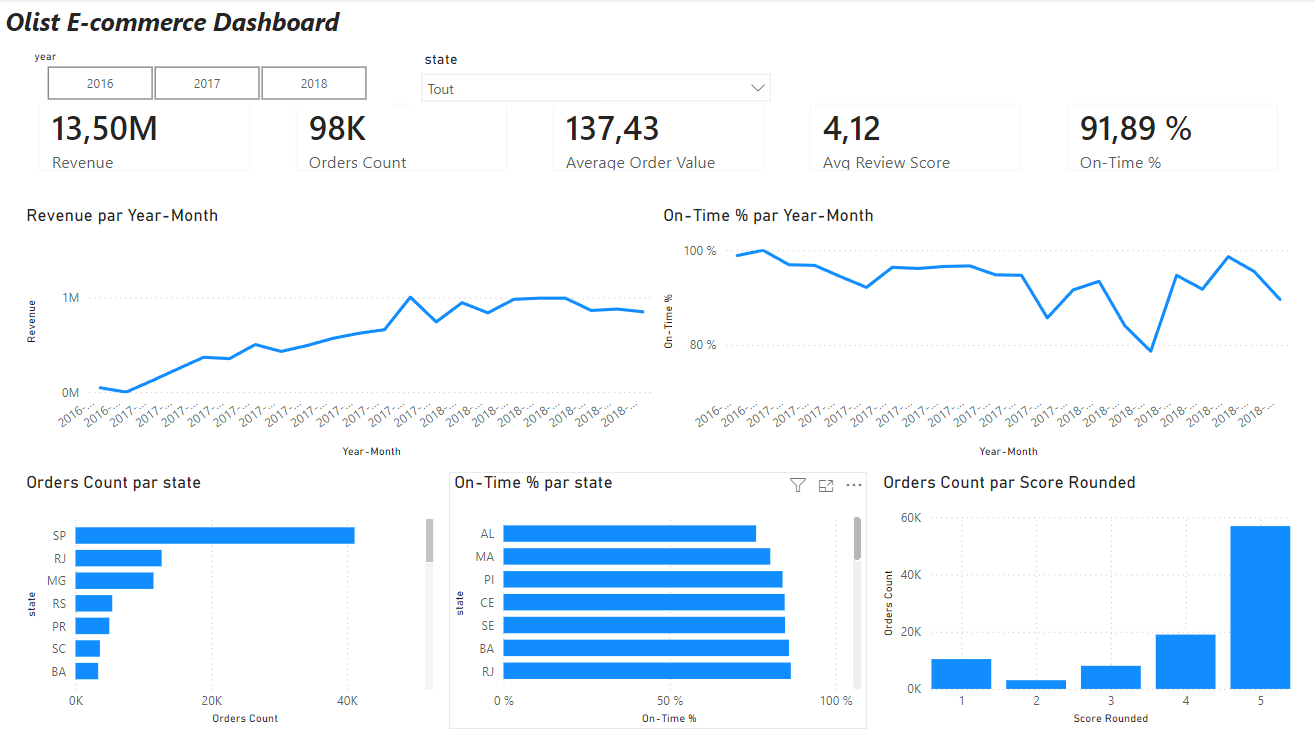

The dashboard page shown, as its layout file describes it:
{"tool":"powerbi","page":{"name":"Page 1","canvas":[1280,720],"ordinal":0},"visuals":[{"type":"cardVisual","fields":{"Data":["public fact_orders.Revenue"]},"box":[20,85,240,100],"z":0},{"type":"cardVisual","fields":{"Data":["public fact_orders.Orders"]},"box":[270,85,240,100],"z":1},{"type":"cardVisual","fields":{"Data":["public fact_orders.On-Time %"]},"box":[1020,85,240,100],"z":2},{"type":"cardVisual","fields":{"Data":["public fact_orders.Avg Review Score"]},"box":[770,85,240,100],"z":3},{"type":"cardVisual","fields":{"Data":["public fact_orders.Average Order Value"]},"box":[520,85,240,100],"z":4},{"type":"clusteredBarChart","fields":{"Category":["public dim_customers.state"],"Y":["public fact_orders.On-Time %"]},"box":[437,460,406,250],"z":6},{"type":"slicer","fields":{"Values":["public dim_date.year"]},"box":[20,45,360,60],"z":7},{"type":"slicer","fields":{"Values":["public dim_customers.state"]},"box":[400,45,360,60],"z":8},{"type":"lineChart","fields":{"Category":["public dim_date.Year-Month"],"Y":["public fact_orders.Revenue"]},"box":[20,200,620,250],"z":9},{"type":"lineChart","fields":{"Category":["public dim_date.Year-Month"],"Y":["public fact_orders.On-Time %"]},"box":[640,200,620,250],"z":10},{"type":"clusteredBarChart","fields":{"Category":["public dim_customers.state"],"Y":["public fact_orders.Orders Count"]},"box":[20,460,406,250],"z":11},{"type":"clusteredColumnChart","fields":{"Category":["public fact_orders.Score Rounded"],"Y":["public fact_orders.Orders Count"]},"box":[854,460,406,250],"z":12},{"type":"textbox","box":[20.2,0,669.7,36.9],"z":13}]}

Visuals, with their boxes in screenshot pixels (x1, y1, x2, y2), scaled from the page's 1280x720 canvas onto the 1315x736 screenshot:
cardVisual - public fact_orders.Revenue: x1=21 y1=87 x2=267 y2=189
cardVisual - public fact_orders.Orders: x1=277 y1=87 x2=524 y2=189
cardVisual - public fact_orders.On-Time %: x1=1048 y1=87 x2=1294 y2=189
cardVisual - public fact_orders.Avg Review Score: x1=791 y1=87 x2=1038 y2=189
cardVisual - public fact_orders.Average Order Value: x1=534 y1=87 x2=781 y2=189
clusteredBarChart - public dim_customers.state x public fact_orders.On-Time %: x1=449 y1=470 x2=866 y2=726
slicer - public dim_date.year: x1=21 y1=46 x2=390 y2=107
slicer - public dim_customers.state: x1=411 y1=46 x2=781 y2=107
lineChart - public dim_date.Year-Month x public fact_orders.Revenue: x1=21 y1=204 x2=658 y2=460
lineChart - public dim_date.Year-Month x public fact_orders.On-Time %: x1=658 y1=204 x2=1294 y2=460
clusteredBarChart - public dim_customers.state x public fact_orders.Orders Count: x1=21 y1=470 x2=438 y2=726
clusteredColumnChart - public fact_orders.Score Rounded x public fact_orders.Orders Count: x1=877 y1=470 x2=1294 y2=726
textbox: x1=21 y1=0 x2=709 y2=38
